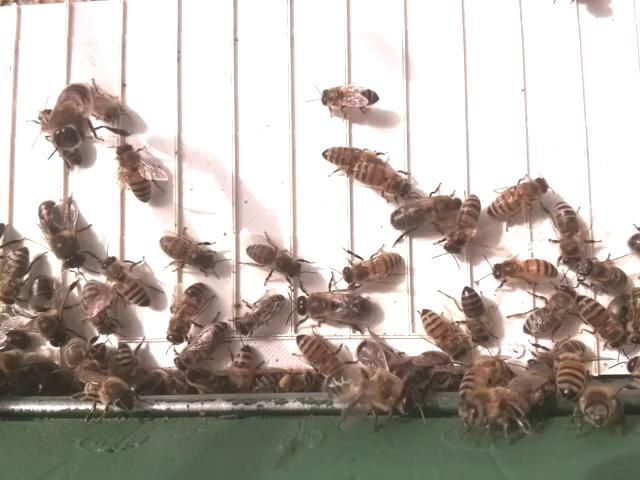Drone: (35, 195, 88, 273), (28, 271, 71, 353), (290, 286, 372, 328), (386, 193, 463, 234)
Worker: (522, 282, 579, 341), (574, 292, 630, 352), (487, 173, 550, 220), (113, 140, 157, 207), (176, 318, 230, 371), (165, 281, 208, 347), (102, 254, 151, 310), (346, 159, 412, 200), (157, 229, 216, 274), (442, 193, 484, 256), (418, 307, 466, 359), (233, 295, 289, 339), (78, 280, 119, 338), (338, 251, 404, 287), (245, 239, 302, 280), (458, 283, 493, 346), (552, 200, 583, 268), (491, 254, 559, 285), (296, 333, 344, 376), (317, 80, 381, 112), (0, 244, 33, 304), (318, 141, 384, 170)
